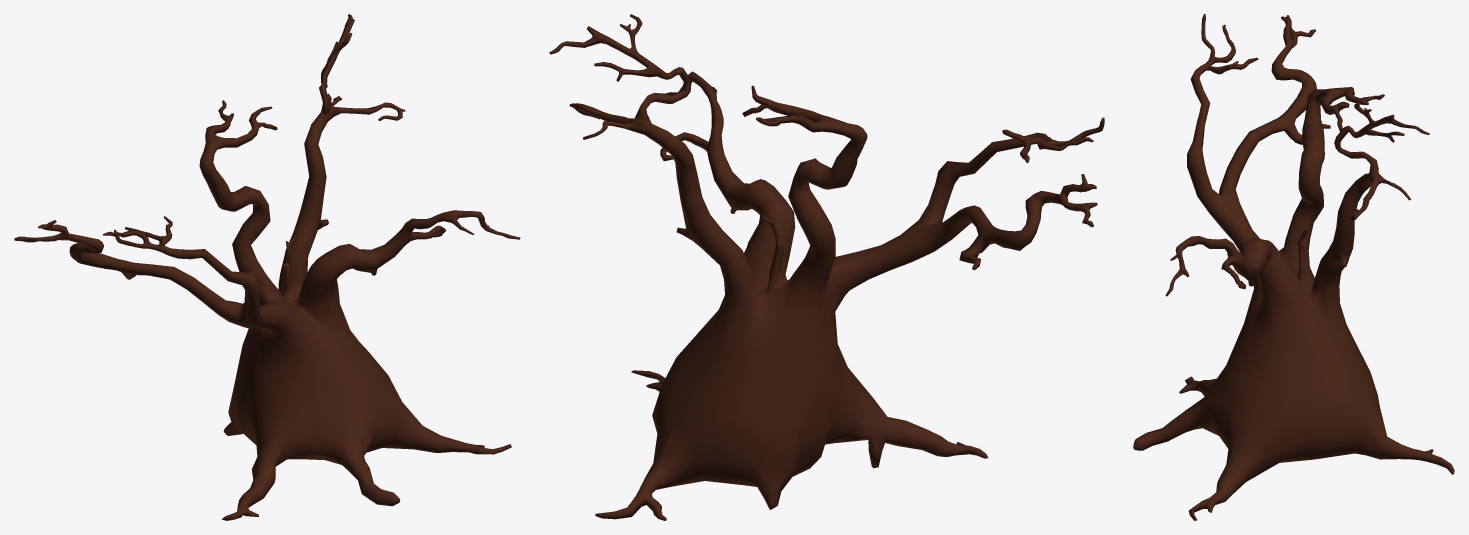
The picture shows the model from 3 angles, left to right: view 1: azimuth 30°, elevation 25°; view 2: azimuth 150°, elevation 25°; view 3: azimuth 270°, elevation 25°; orthographic projection. The views are drawn at different scales.
Parts seen in each view (by area): view 1: Tree_001; view 2: Tree_001; view 3: Tree_001.
Part boxes in pixels (x1,y1,x2,y2): Tree_001: [14, 14, 520, 520]; Tree_001: [549, 14, 1104, 520]; Tree_001: [1133, 14, 1454, 520].
Bounding box in the file's own units: 4.47 × 3.67 × 2.8.
